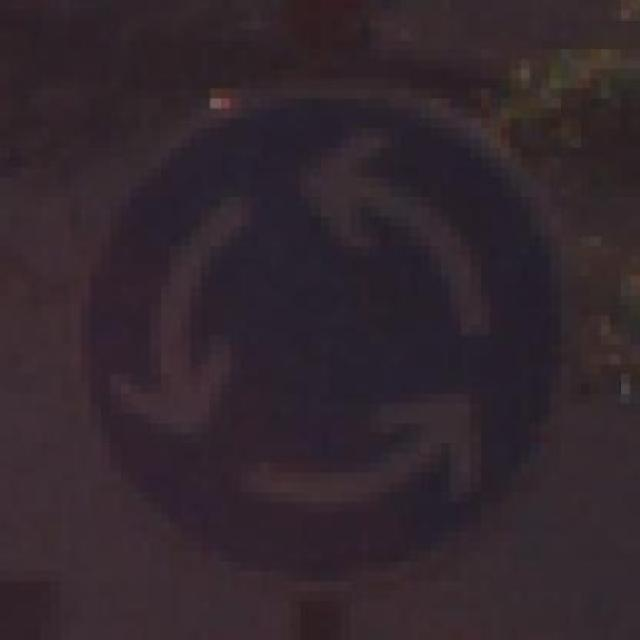Round-About: (59, 89, 590, 592)
